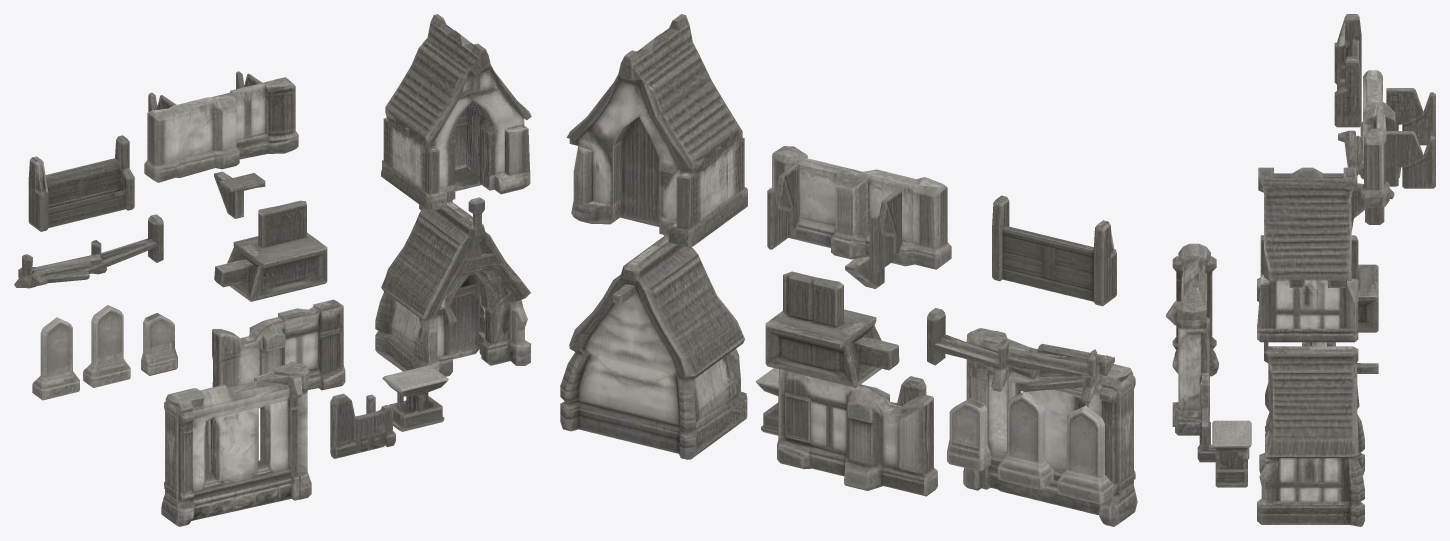
File: chapel_ruins.glb
The picture shows the model from 3 angles, left to right: view 1: azimuth 30°, elevation 25°; view 2: azimuth 150°, elevation 25°; view 3: azimuth 270°, elevation 25°; orthographic projection. The views are drawn at different scales.
Size of the model in its own units: 1.89 by 1.44 by 0.9393.
Materials: 1 (1 with a texture image).
